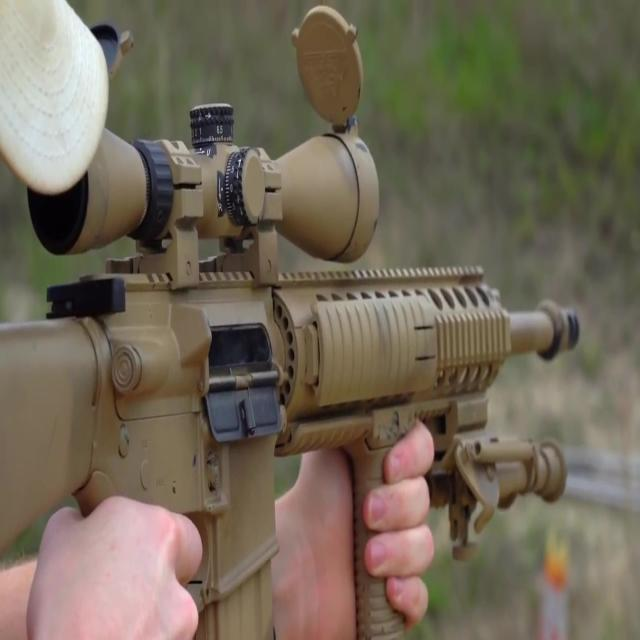Weapon: (0, 10, 580, 640)
